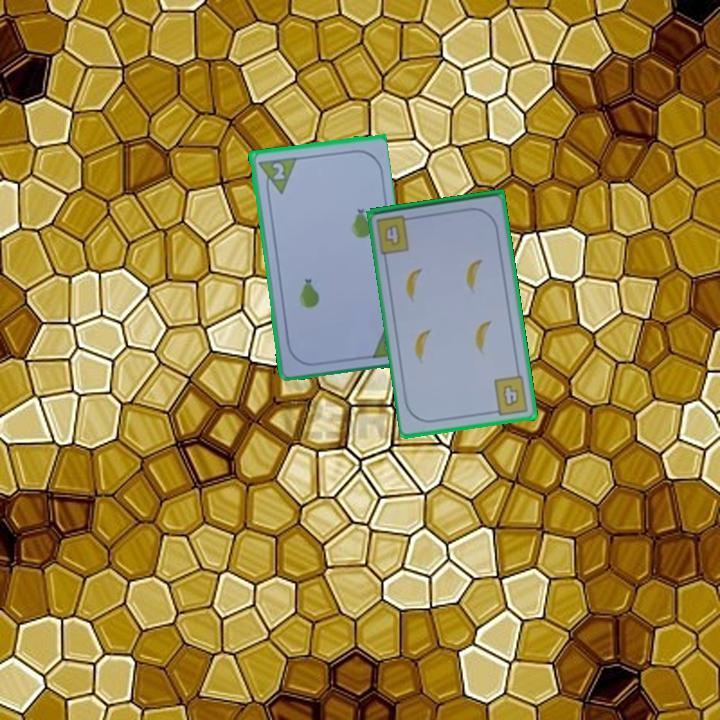2p: (254, 153, 298, 198)
4b: (373, 211, 417, 257), (488, 372, 531, 418)
